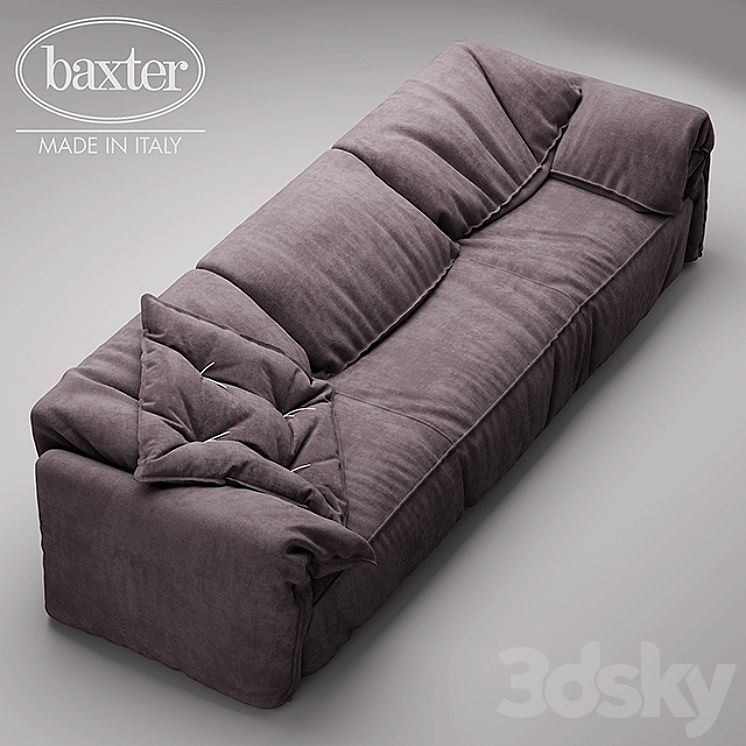3seatersofa: (32, 43, 713, 707)
backrest: (163, 44, 578, 373), (33, 315, 139, 468)
base: (304, 203, 702, 673)
leftarmrest: (552, 76, 713, 260)
pillow: (136, 296, 346, 527)
rightarmrest: (37, 450, 371, 706)
seat: (334, 184, 656, 527)
